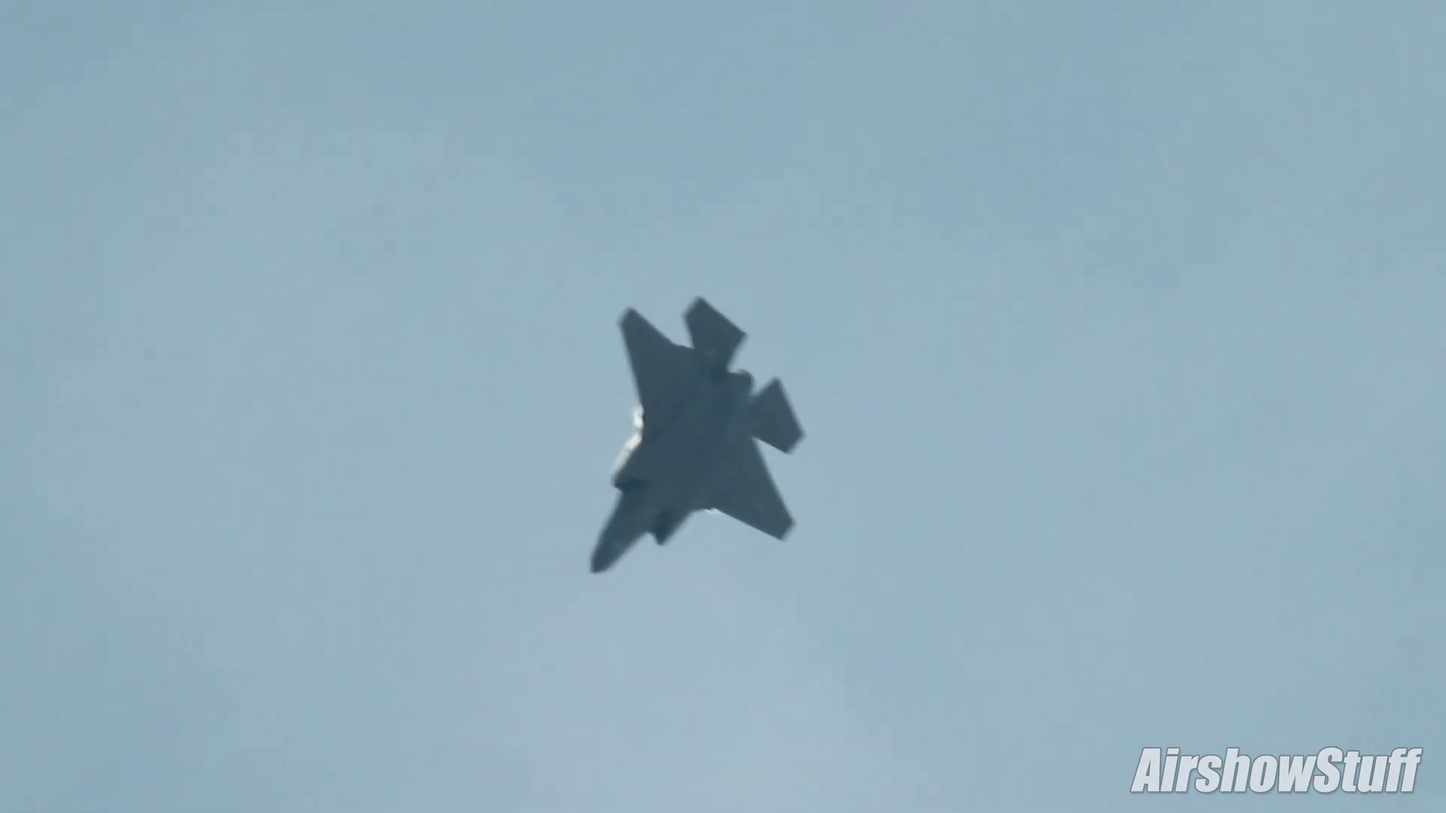F35: (585, 292, 803, 578)
